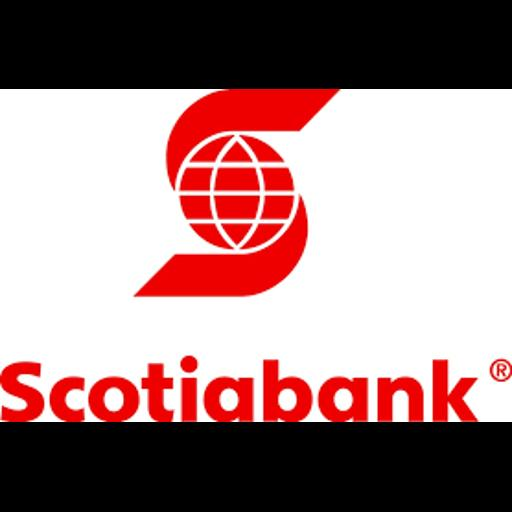Scotiabank: (0, 89, 512, 422)
